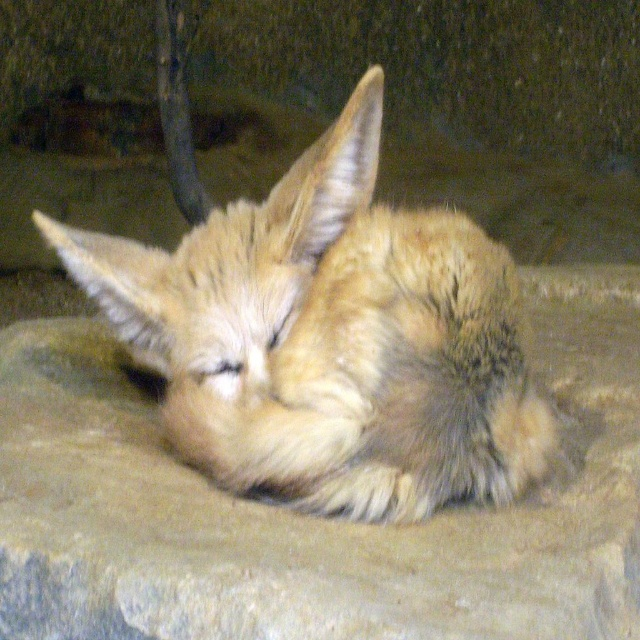Fox: (32, 58, 591, 522)
